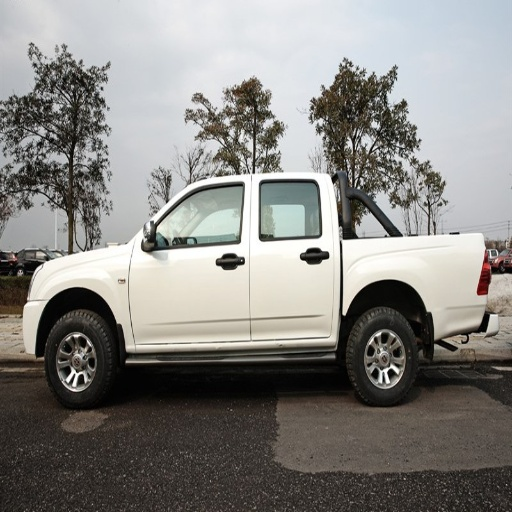back_left_door: (253, 178, 336, 339)
trunk: (333, 238, 487, 346)
